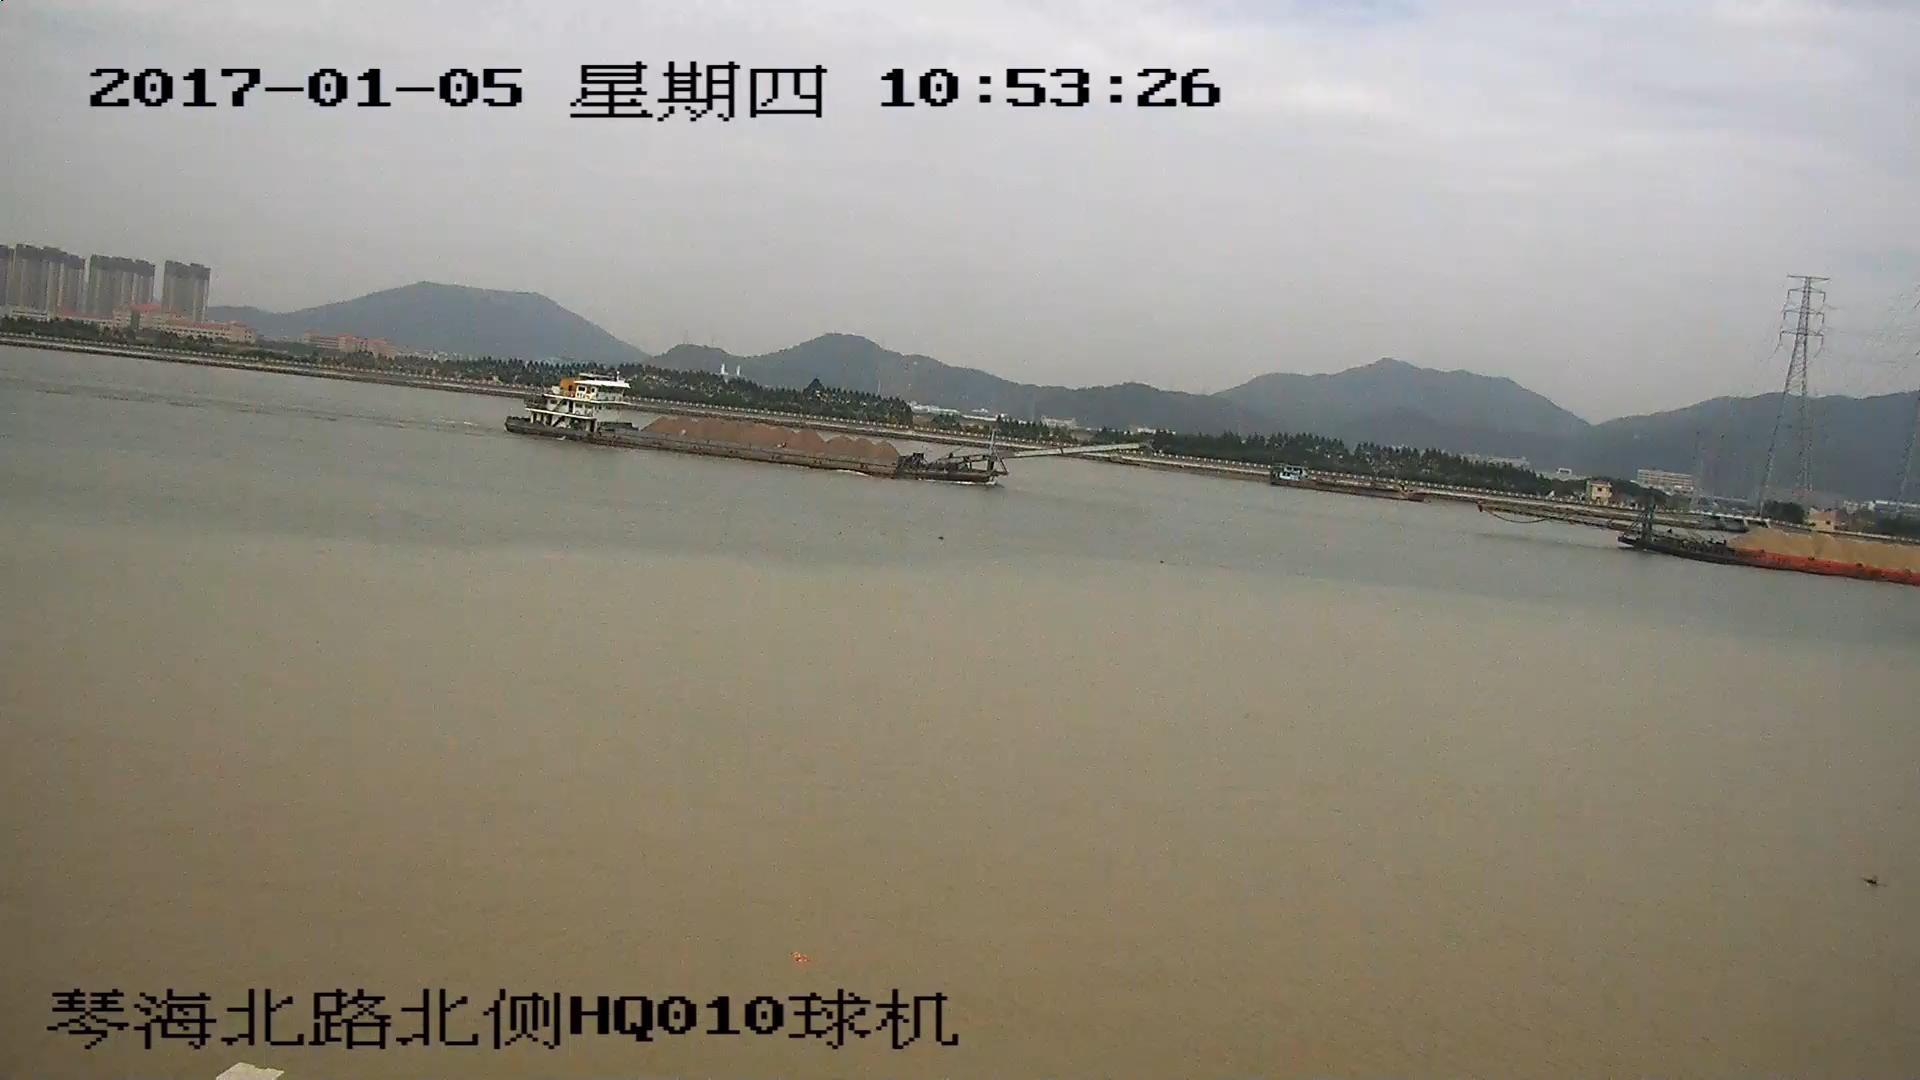ore carrier: (514, 380, 1138, 480), (1484, 485, 1920, 584)
